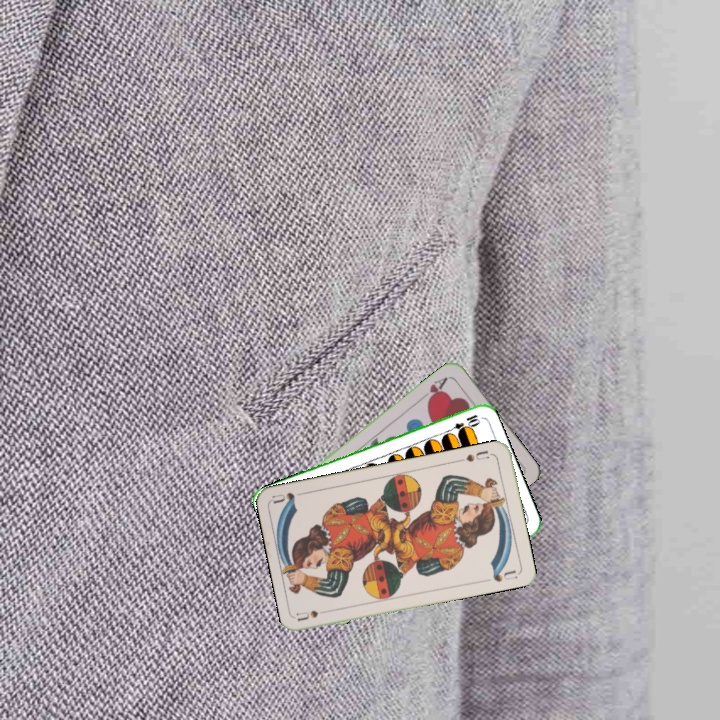E10: (443, 410, 482, 435)
HA: (417, 372, 453, 405)
SU: (455, 446, 491, 465), (294, 606, 321, 623)
